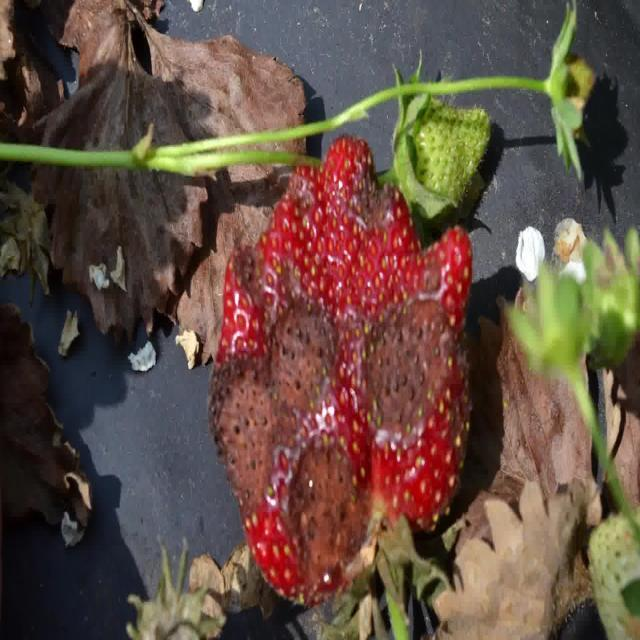Mancha negra Antracnosis: (212, 142, 491, 591), (250, 231, 381, 506)
